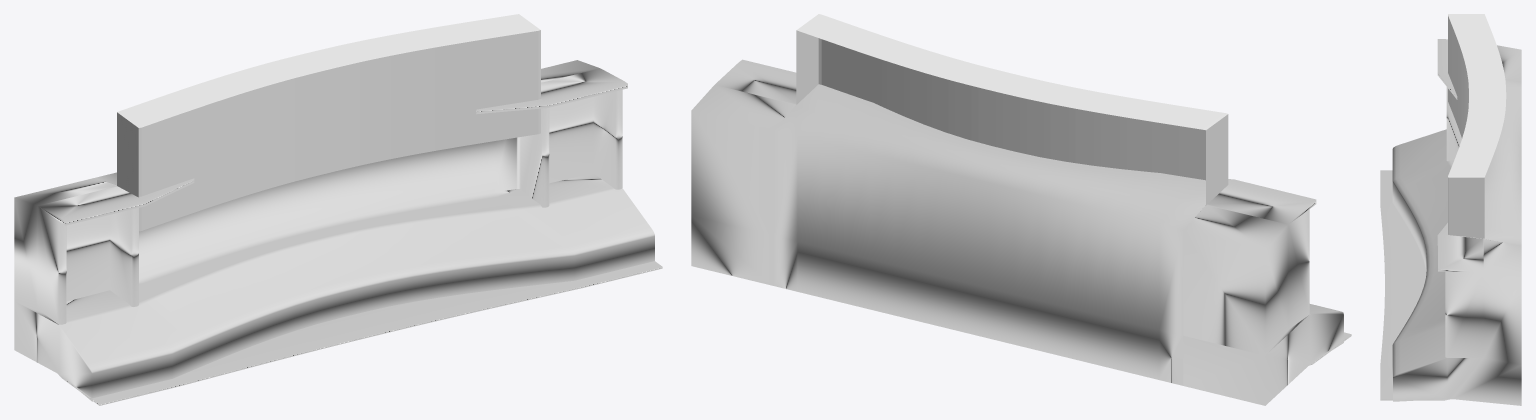
Rendered from glass_test10.gltf.
3 views of the same model, side by side, from view 1: azimuth 30°, elevation 25°; view 2: azimuth 150°, elevation 25°; view 3: azimuth 270°, elevation 25° (orthographic). The views are drawn at different scales.
Parts seen in each view (by area): view 1: Cube.210, Cube.199; view 2: Cube.210, Cube.199; view 3: Cube.210, Cube.199.
Boxes of the visible parts, x1,y1,x2,y2 form: Cube.210: (14,60,662,405); Cube.199: (117,14,540,231); Cube.210: (691,59,1351,405); Cube.199: (796,14,1228,205); Cube.210: (1380,39,1521,405); Cube.199: (1448,14,1506,238).
Size of the model in its own units: 45.97 by 18.31 by 12.01.
2 materials, 1 textured.
